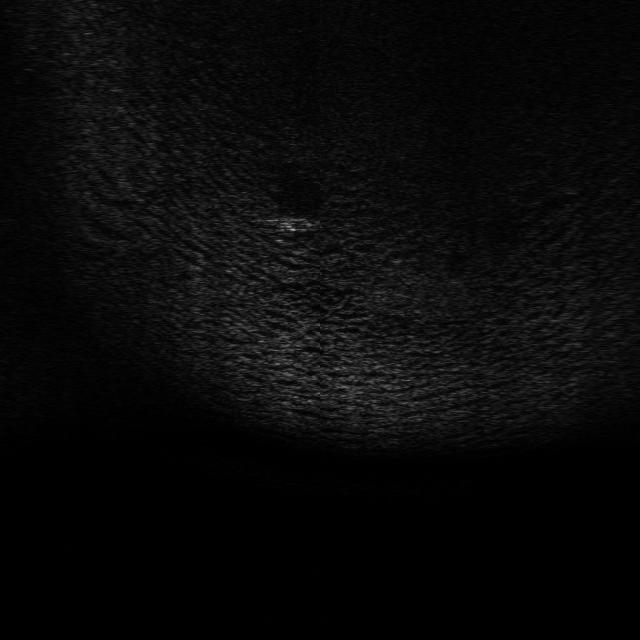plane: (269, 213, 322, 234)
